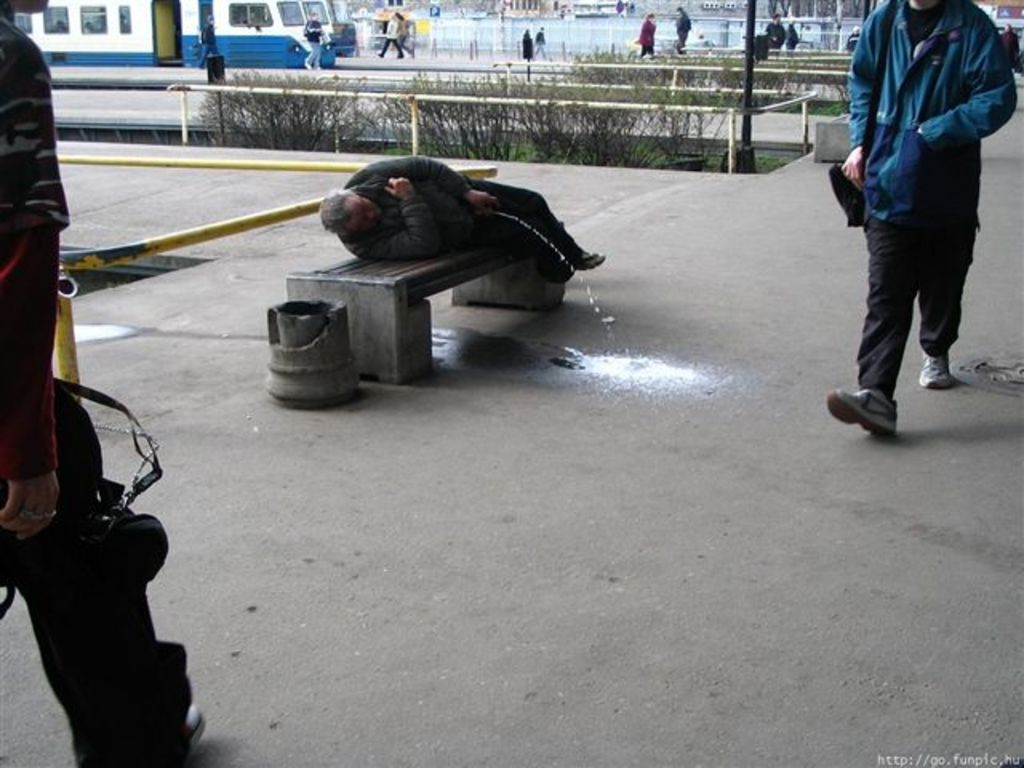Footwear: (827, 386, 901, 435), (190, 698, 216, 763), (918, 347, 957, 389)
